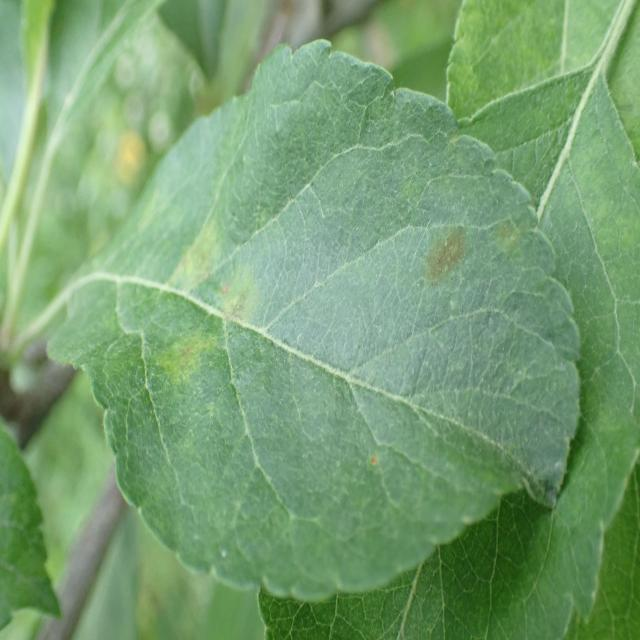scab: (94, 142, 545, 572)
